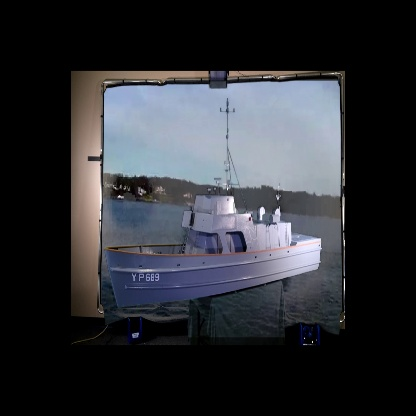YP689: (104, 99, 323, 311)
